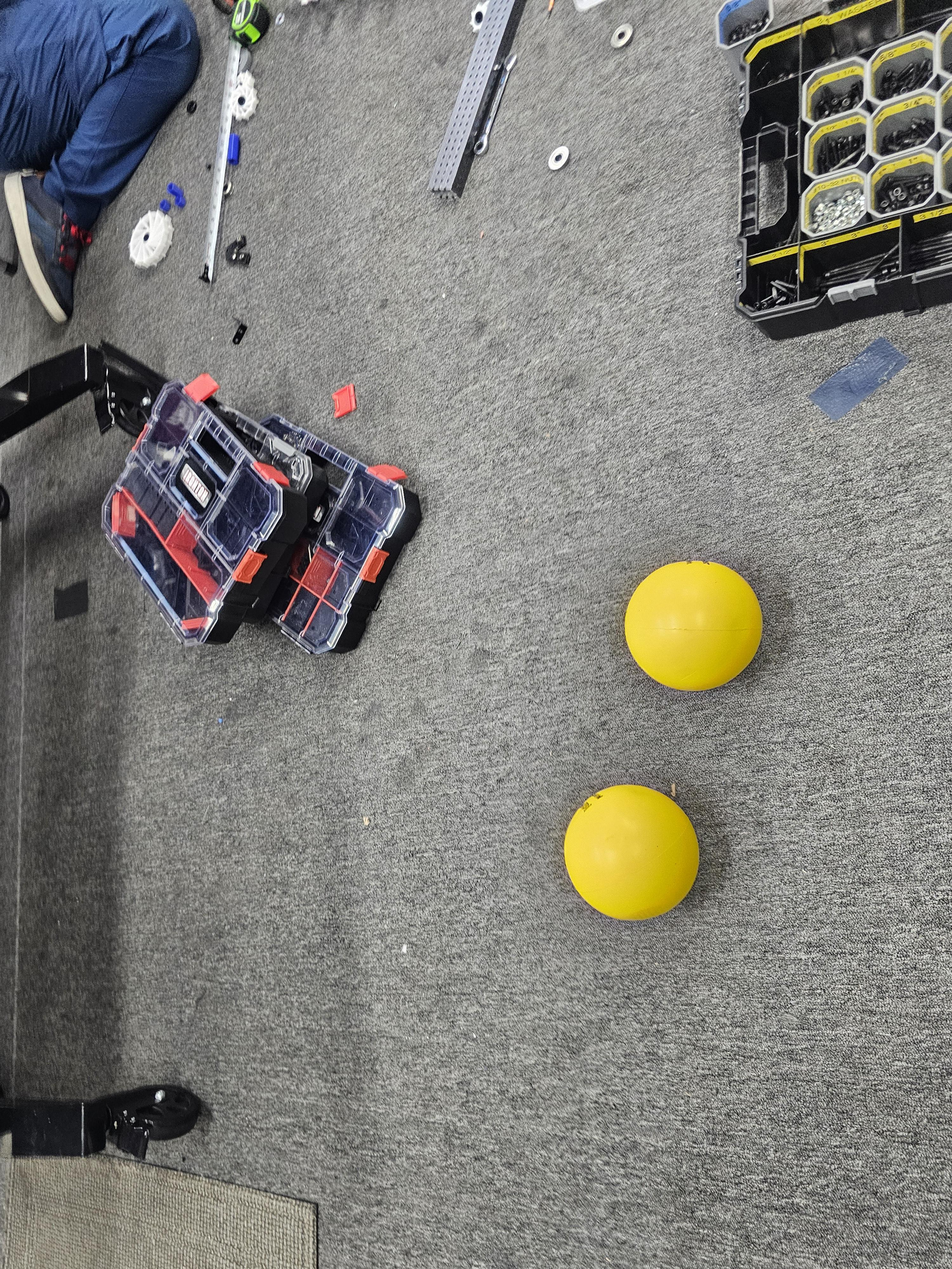fuel: (620, 554, 769, 699), (562, 780, 707, 924)
